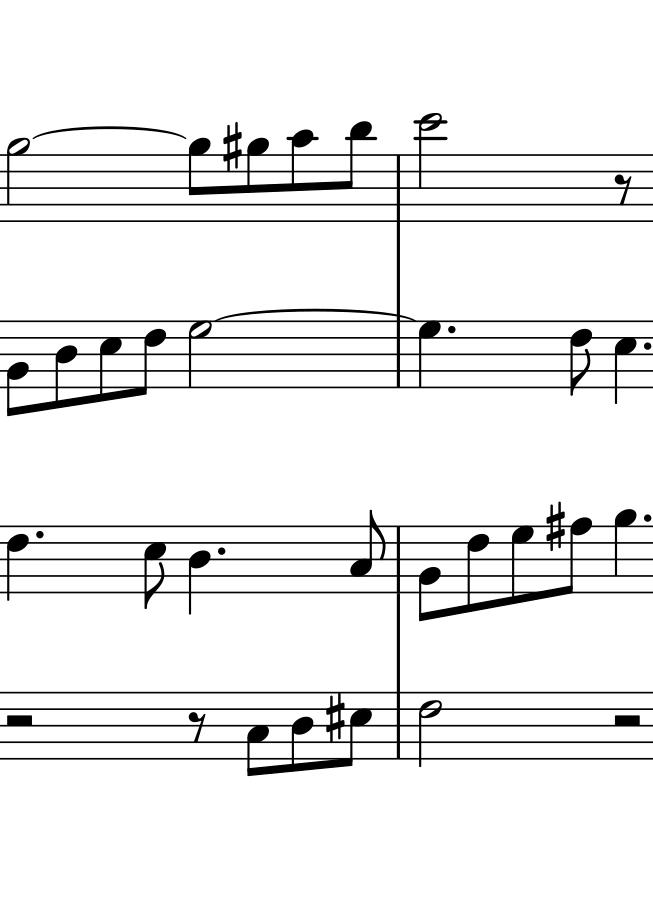2_12: (414, 110, 448, 223)
2_6: (417, 691, 441, 767)
2_7: (186, 320, 211, 390)
2_9: (5, 137, 30, 224)
4_4: (187, 525, 212, 617)
4_5: (612, 319, 638, 406)
4_6: (5, 524, 28, 601)
4_7: (417, 319, 442, 387)
4_9: (614, 508, 637, 597)
8_10: (290, 127, 314, 224)
8_11: (341, 116, 373, 226)
8_2: (416, 524, 442, 622), (5, 322, 30, 417)
8_3: (348, 510, 387, 596), (245, 691, 270, 778)
8_4: (54, 319, 78, 410), (289, 690, 315, 774)
8_5: (340, 688, 373, 767), (142, 524, 168, 610), (97, 318, 122, 405)
8_6: (135, 320, 168, 397), (465, 523, 490, 616), (569, 319, 594, 395)
8_7: (510, 524, 534, 606)
8_8: (561, 516, 592, 597)
8_9: (187, 137, 211, 223), (245, 137, 269, 223)
Rests2: (2, 713, 36, 729), (611, 713, 641, 729)
Rests8: (613, 172, 634, 206), (187, 709, 208, 743)
Sharp: (324, 690, 346, 744), (221, 121, 243, 173), (545, 501, 566, 553)
Single_barline: (390, 155, 406, 221), (390, 692, 406, 758), (390, 325, 407, 386), (390, 526, 405, 592)
Slur: (216, 308, 411, 323), (31, 125, 186, 140)
dot: (214, 544, 228, 558), (445, 322, 458, 336), (33, 528, 45, 541), (641, 512, 652, 524)
